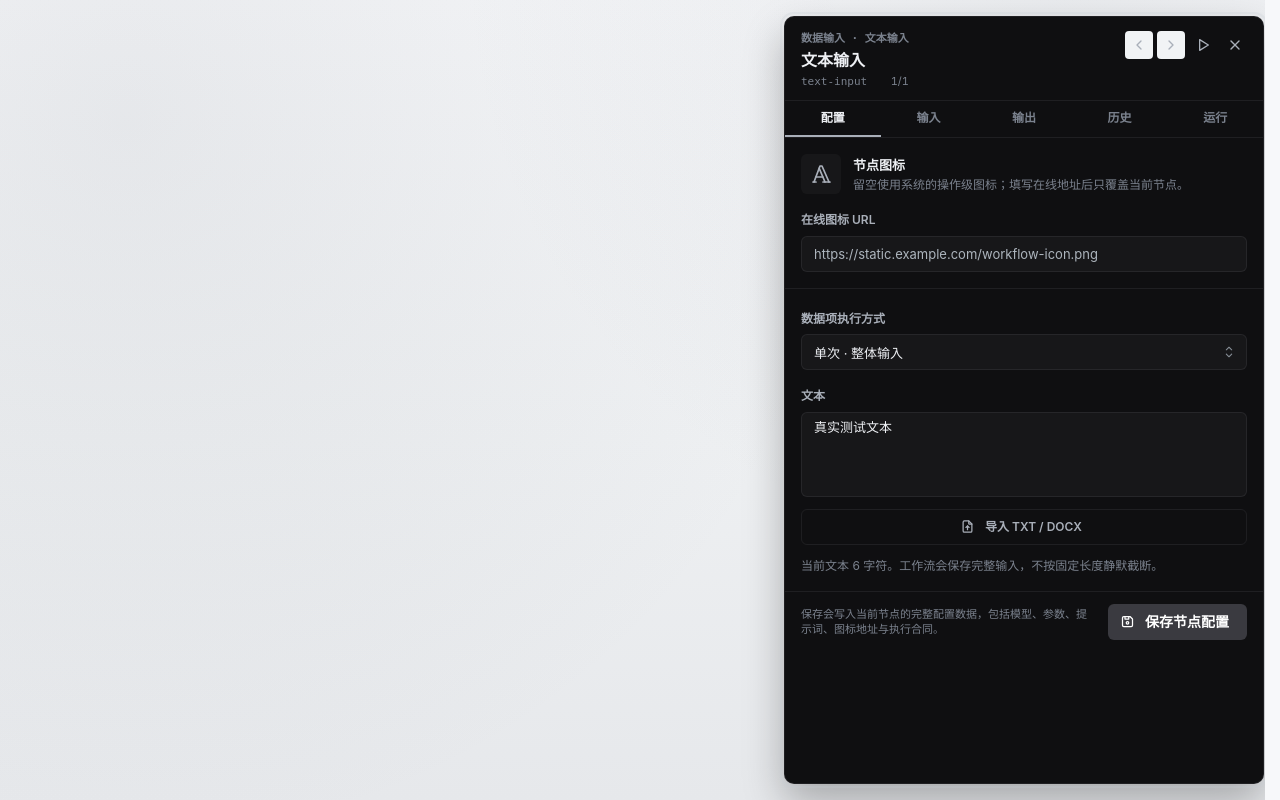
Scenario: WorkflowNodeInspectorPanel › previews a deterministic text node and writes inspectable execution evidence
The image size is (1280, 800).
Click the tab "运行": (1215, 119) top-left (1167, 101), bottom-right (1263, 137)
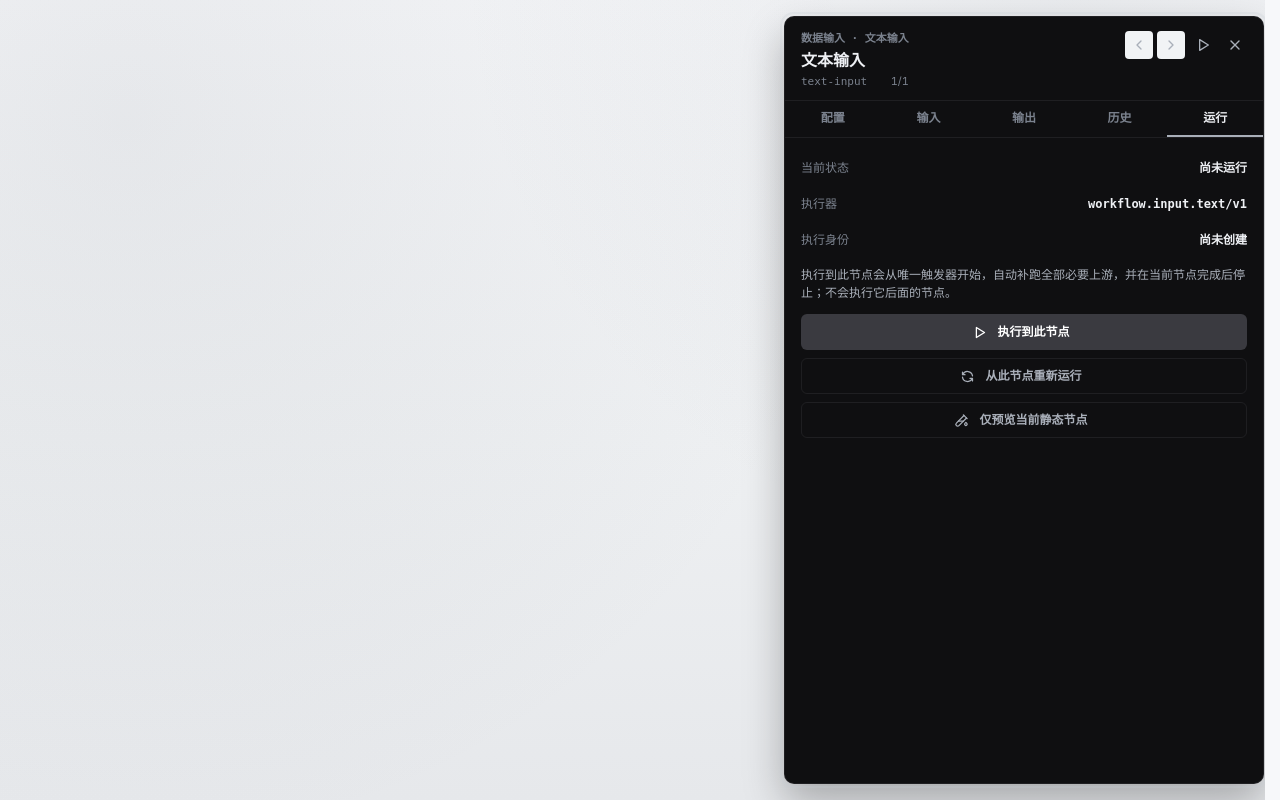
Click the button "仅预览当前静态节点": (1024, 420) top-left (801, 402), bottom-right (1247, 438)
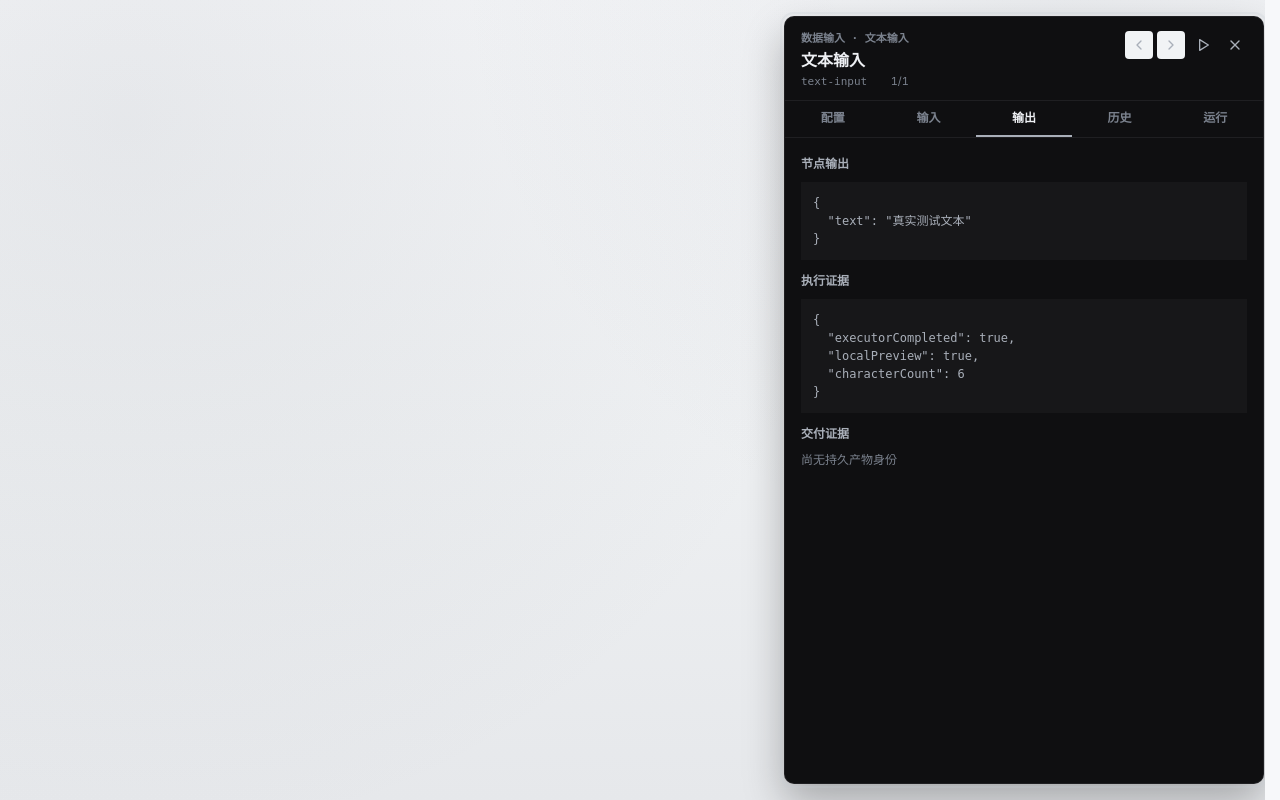
Expected: the element "节点输出" shows "真实测试文本", top-left (813, 196), bottom-right (972, 246)
Expected: the element "执行证据" shows "\"localPreview\": true", top-left (813, 313), bottom-right (1015, 399)
